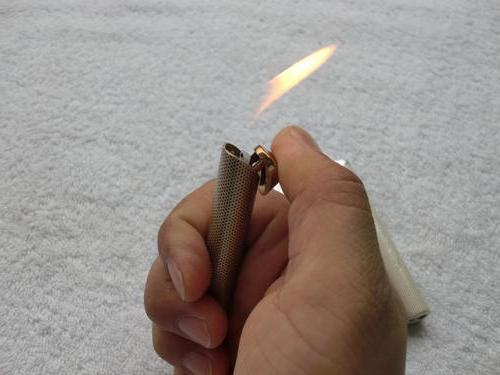fire: (237, 40, 345, 129)
